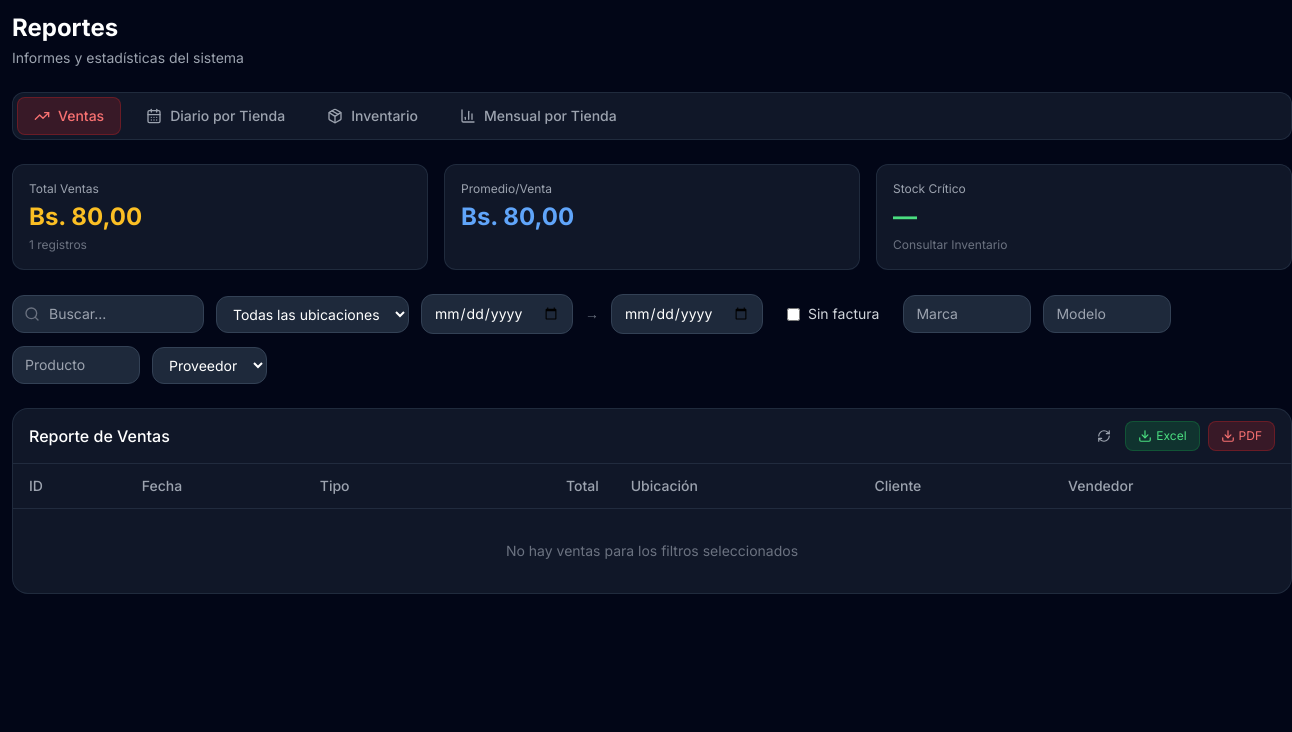
cambiar a inventario no reutiliza ventas anteriores ni muestra unidades como dinero
Expected: the text "Bs. 80,00" below "Total Ventas" is shown, [29,202,142,231]
Click the button "Inventario" at (372, 116), box [310,97,435,135]
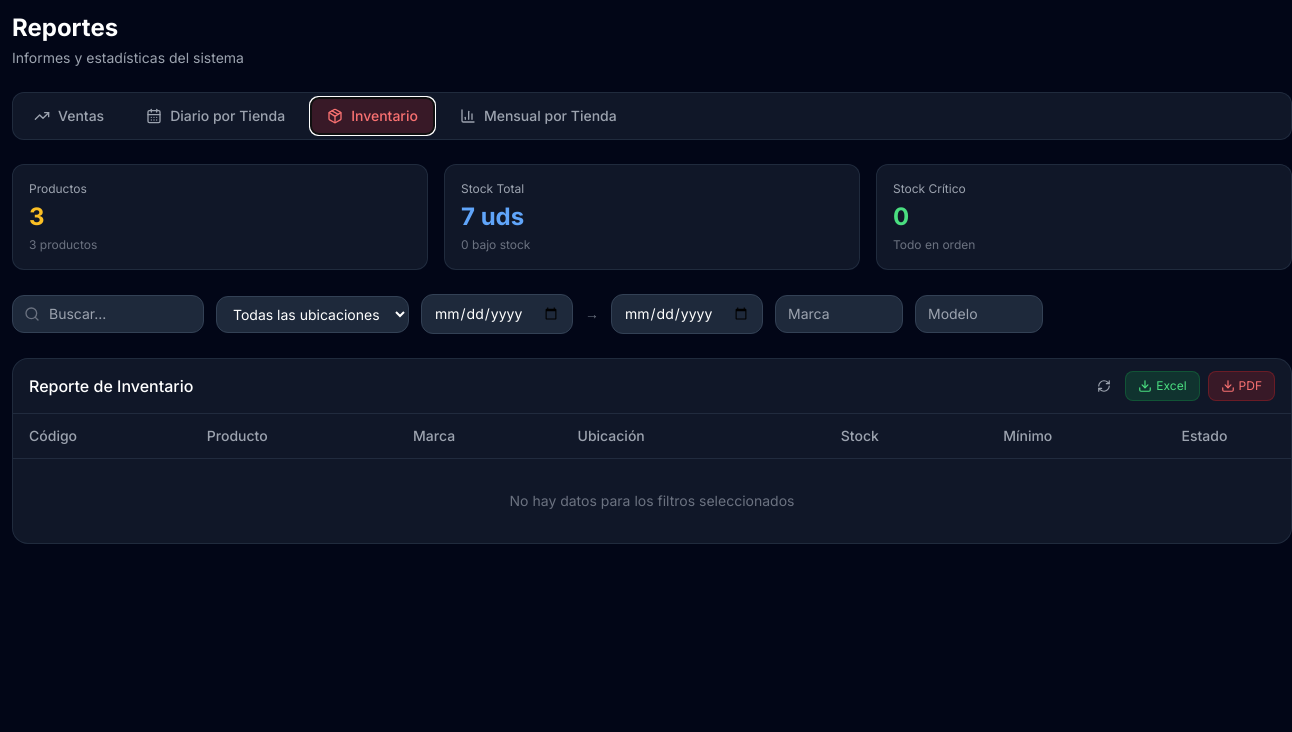
Expected: the text "7 uds" is shown, [461,202,524,231]
Expected: the text "80,00" is gone
Expected: the text "3 productos" is shown, [29,237,97,252]
